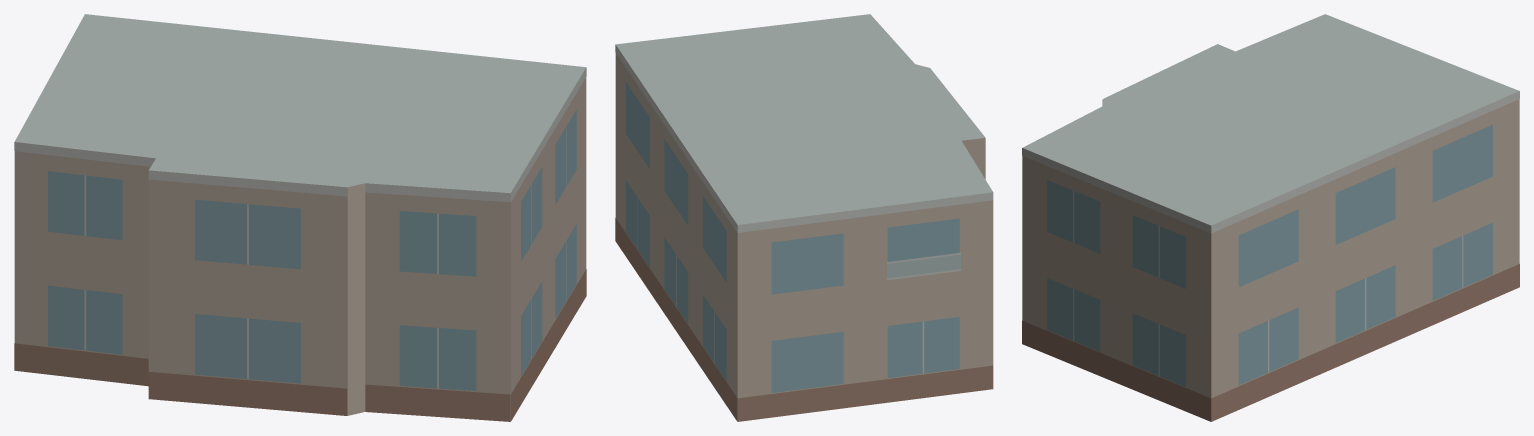
Rendered from survey-upis-33043879.glb.
The picture shows the model from 3 angles, left to right: view 1: azimuth 30°, elevation 25°; view 2: azimuth 150°, elevation 25°; view 3: azimuth 270°, elevation 25°; orthographic projection. The views are drawn at different scales.
Parts seen in each view (by area): view 1: survey-upis-33043879.tmp; view 2: survey-upis-33043879.tmp; view 3: survey-upis-33043879.tmp.
Boxes of the visible parts, bbox=[...] form: survey-upis-33043879.tmp: bbox=[14, 14, 586, 421]; survey-upis-33043879.tmp: bbox=[615, 14, 993, 421]; survey-upis-33043879.tmp: bbox=[1022, 14, 1519, 421].
Size of the model in its own units: 14.12 by 6.1 by 14.03.
